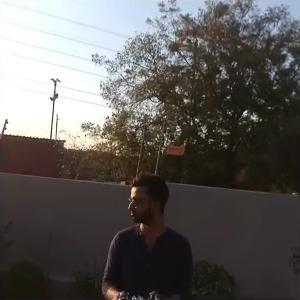follow: (93, 160, 197, 298)
